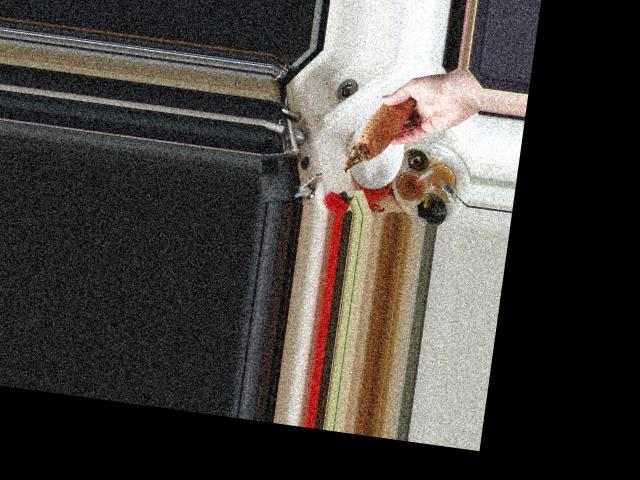sweet_potato: (342, 82, 422, 183)
